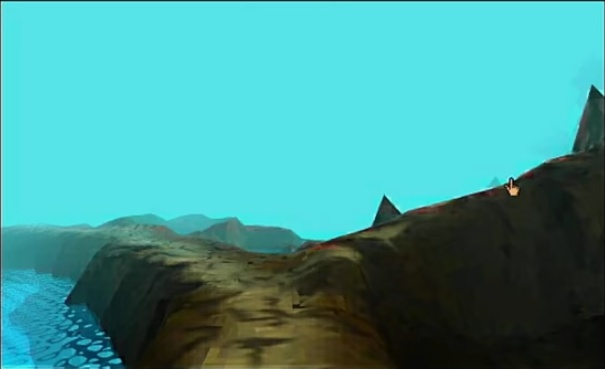Pointer: (503, 173, 523, 198)
